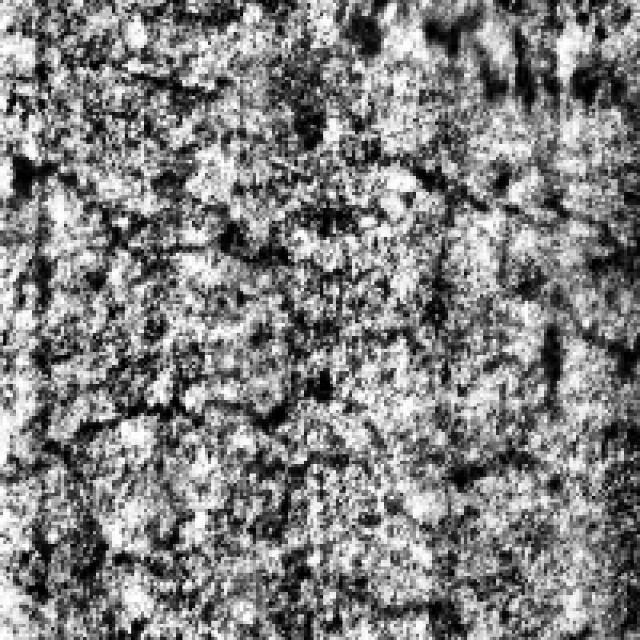Pitted_Surface: (0, 124, 627, 470), (329, 0, 636, 102)
